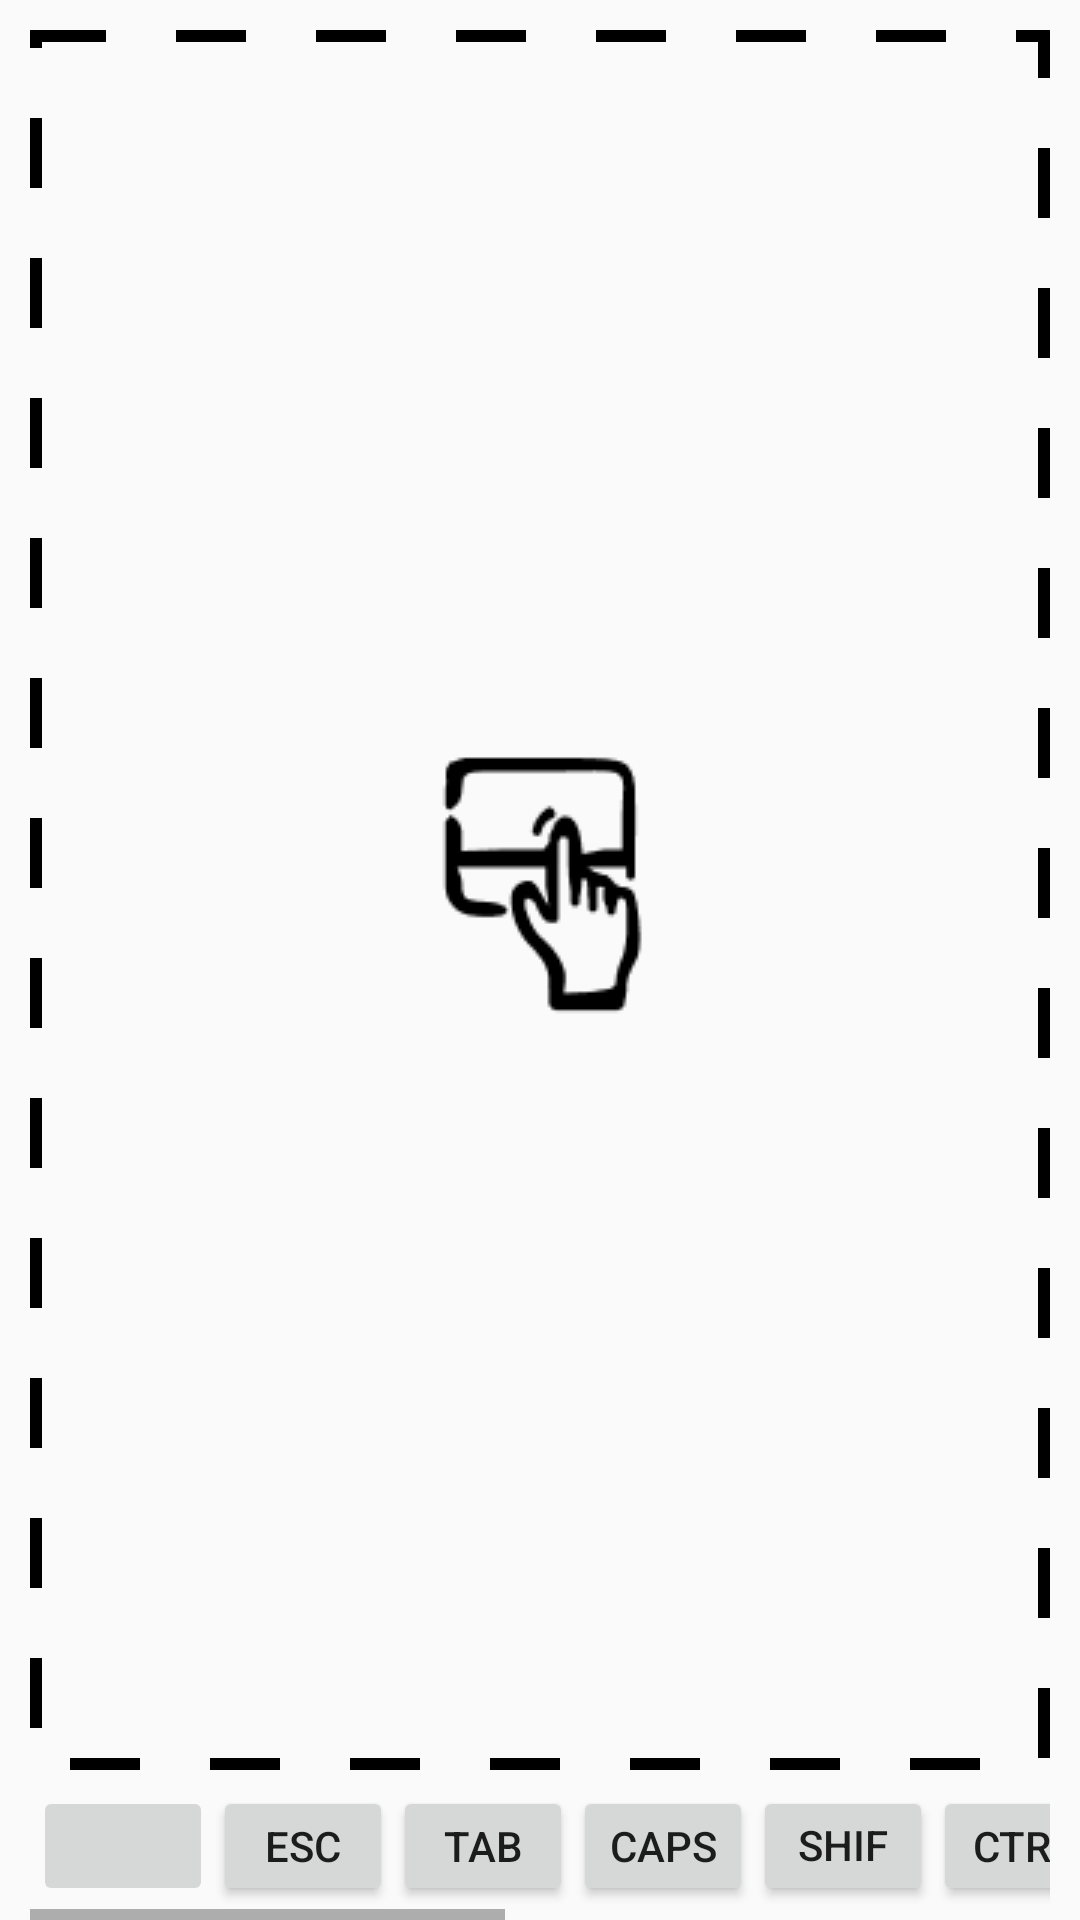

Named icons in this screenshot (1080w x 1920h) and their bounding boxes, rect(x1, y1, x2, y2):
touchpad: rect(443, 757, 642, 1012)
